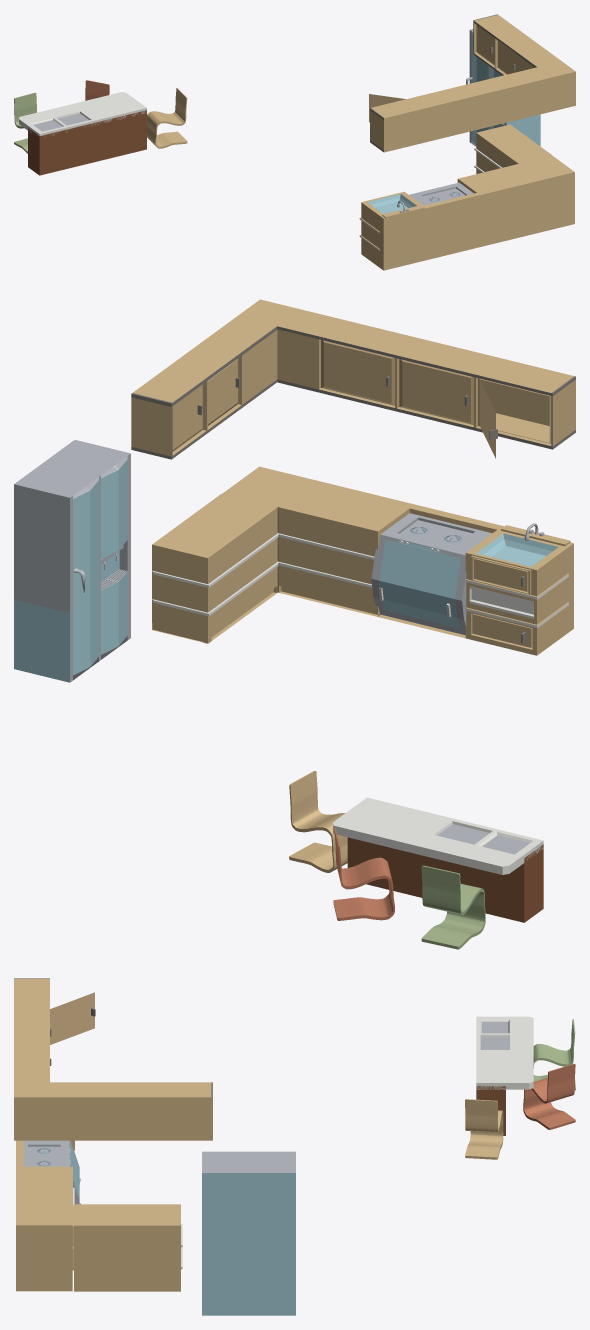
The model's file is furniture_kitchen.glb.
3 views of the same model, one above another, from view 1: azimuth 30°, elevation 25°; view 2: azimuth 150°, elevation 25°; view 3: azimuth 270°, elevation 25° (orthographic). The views are drawn at different scales.
Visible parts, largest first — view 1: FURN_cabinet_low, FURN_cabinet_up, FURN_island, FURN_island_top, FURN_fridge, FURN_stool3, FURN_sink_stove, FURN_stool2, FURN_stool1; view 2: FURN_cabinet_low, FURN_cabinet_up, FURN_fridge, FURN_sink_stove, FURN_island_top, FURN_island, FURN_stool2, FURN_stool3, FURN_stool1; view 3: FURN_cabinet_up, FURN_cabinet_low, FURN_fridge, FURN_island_top, FURN_stool1, FURN_stool3, FURN_sink_stove, FURN_stool2, FURN_island.
Boxes of the visible parts, x1,y1,x2,y2 form: FURN_cabinet_low: (359,124,574,270); FURN_cabinet_up: (369,14,575,152); FURN_island: (28,110,146,175); FURN_island_top: (19,92,146,137); FURN_fridge: (469,29,540,146); FURN_stool3: (147,88,187,148); FURN_sink_stove: (409,182,473,205); FURN_stool2: (14,92,36,153); FURN_stool1: (85,80,109,100); FURN_cabinet_low: (152,466,573,655); FURN_cabinet_up: (131,299,575,459); FURN_fridge: (14,440,130,682); FURN_sink_stove: (371,513,491,635); FURN_island_top: (333,797,543,874); FURN_island: (347,837,543,922); FURN_stool2: (421,865,485,949); FURN_stool3: (289,770,347,872); FURN_stool1: (333,828,394,920); FURN_cabinet_up: (14,978,212,1140); FURN_cabinet_low: (16,1140,182,1291); FURN_fridge: (202,1151,295,1315); FURN_island_top: (476,1016,533,1089); FURN_stool1: (523,1063,575,1129); FURN_stool3: (465,1099,503,1159); FURN_sink_stove: (24,1140,80,1225); FURN_stool2: (533,1019,575,1090); FURN_island: (476,1086,505,1135).
Bounding box in the file's own units: 7.32 × 2.72 × 7.14.
